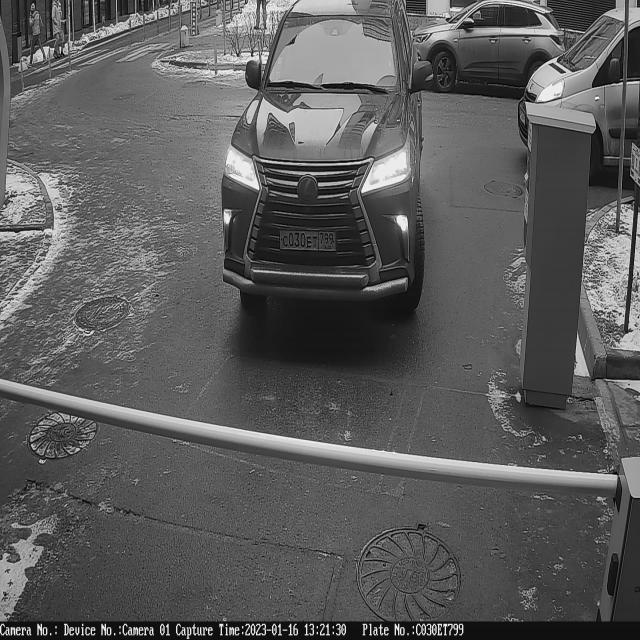car-plate-numbers: (278, 224, 340, 260)
